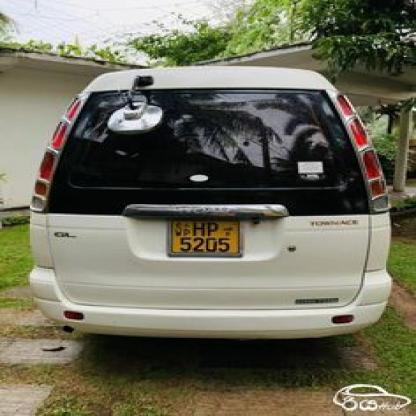number plate: (172, 217, 232, 256)
van back: (31, 60, 398, 346)
